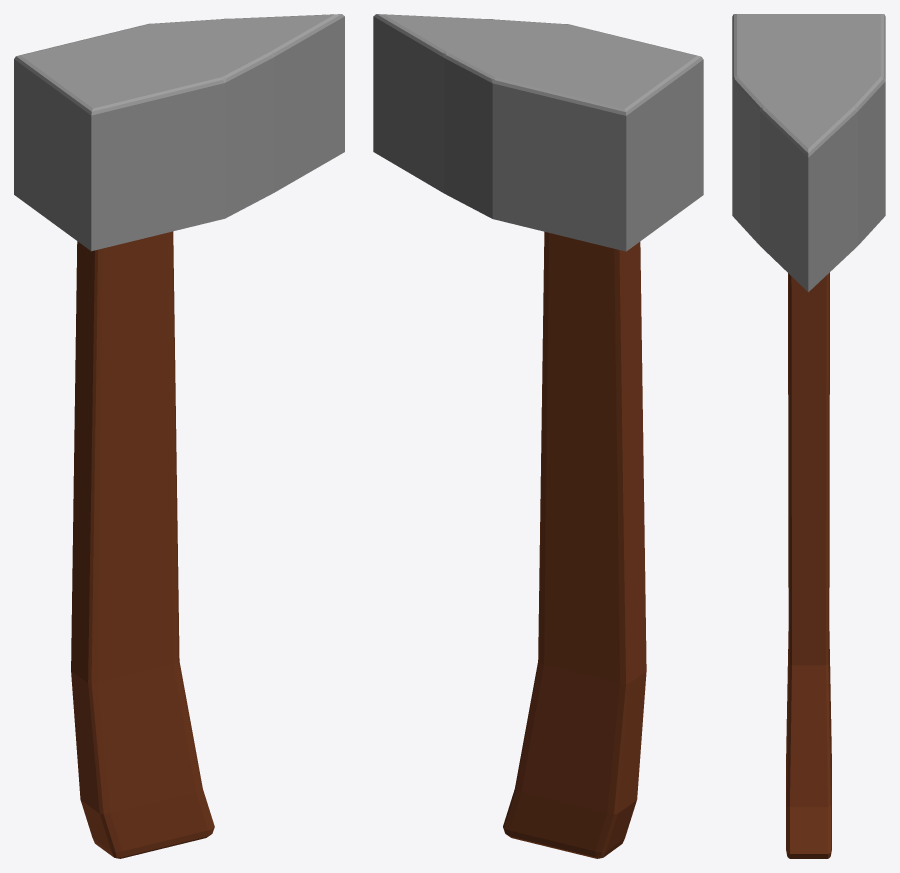
The model's file is Axe.fbx.
3 views of the same model, side by side, from view 1: azimuth 30°, elevation 25°; view 2: azimuth 150°, elevation 25°; view 3: azimuth 270°, elevation 25° (orthographic).
Parts seen in each view (by area): view 1: Cube.001, Cube; view 2: Cube.001, Cube; view 3: Cube, Cube.001.
Boxes of the visible parts, x1=… form: Cube.001: x1=71, y1=231, x2=214, y2=858; Cube: x1=14, y1=14, x2=344, y2=251; Cube.001: x1=503, y1=231, x2=646, y2=858; Cube: x1=373, y1=14, x2=703, y2=251; Cube: x1=732, y1=14, x2=885, y2=292; Cube.001: x1=786, y1=272, x2=831, y2=858.
Size of the model in its own units: 436 by 1118 by 200.
